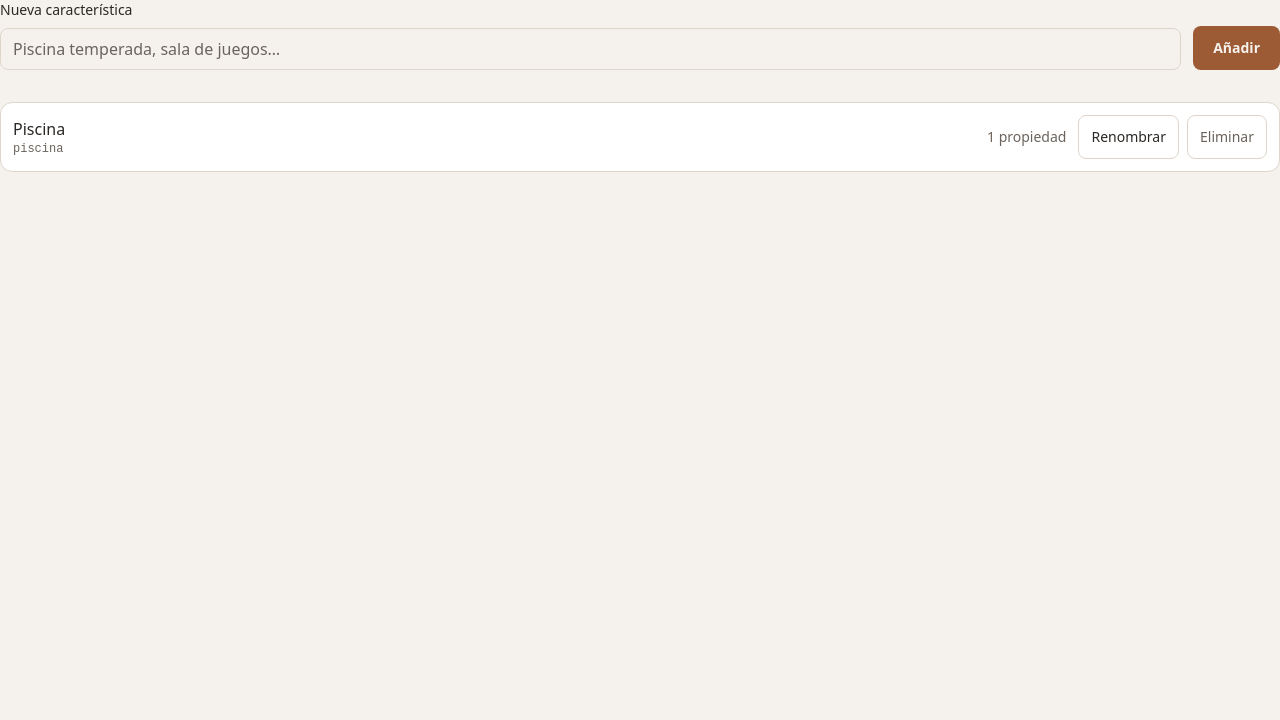
it: FeatureManager › concuerda el número cuando solo la usa una
Click the button named "Eliminar Piscina" at coordinates (1227, 137), box [1187,115,1267,159]
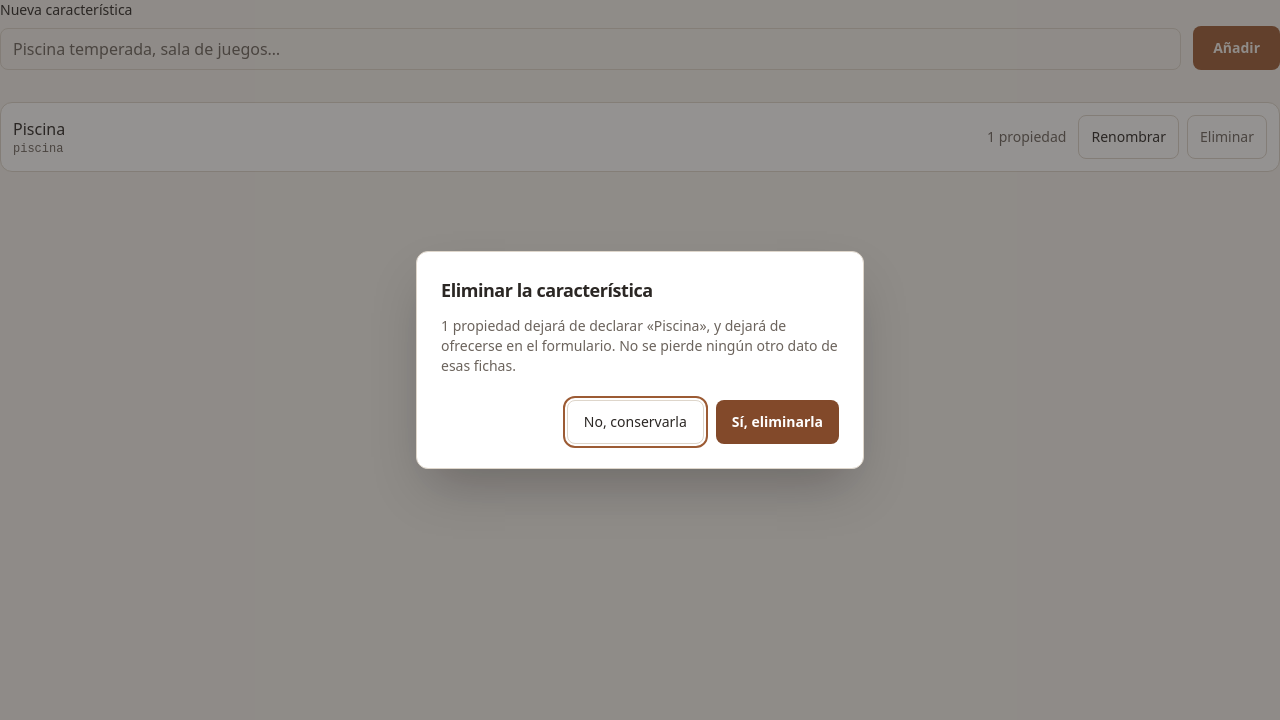
Result: the dialog shows "1 propiedad dejará de declarar" at [441,316,838,375]
